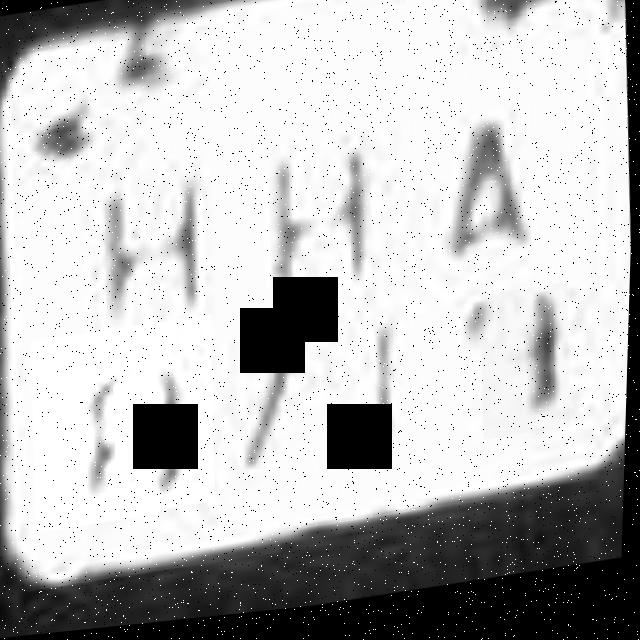1: (338, 305, 434, 477), (479, 294, 578, 450)
3: (28, 325, 168, 535)
8: (81, 319, 223, 524)
N: (243, 113, 418, 335), (63, 141, 233, 351)
